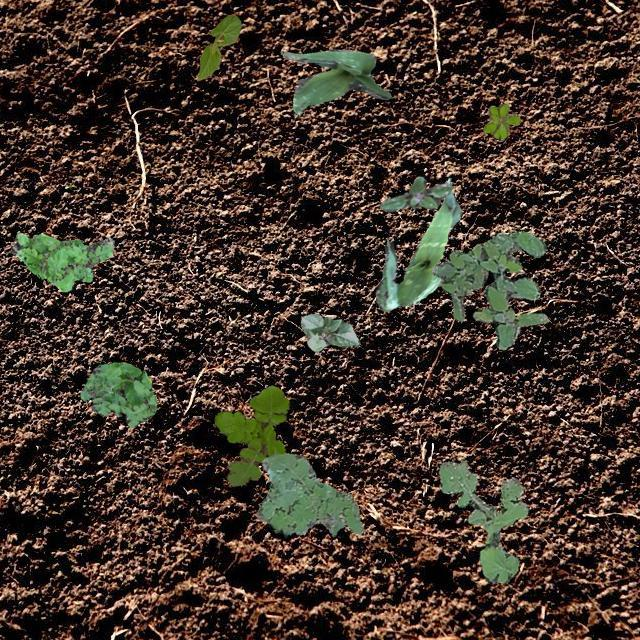crop: (374, 188, 460, 310), (282, 48, 391, 114), (197, 12, 240, 80), (300, 312, 358, 350)
weed: (430, 230, 548, 348), (438, 458, 526, 582), (256, 452, 362, 536), (214, 384, 288, 486), (11, 232, 112, 290), (80, 362, 156, 426), (378, 176, 454, 210), (482, 102, 520, 138)
